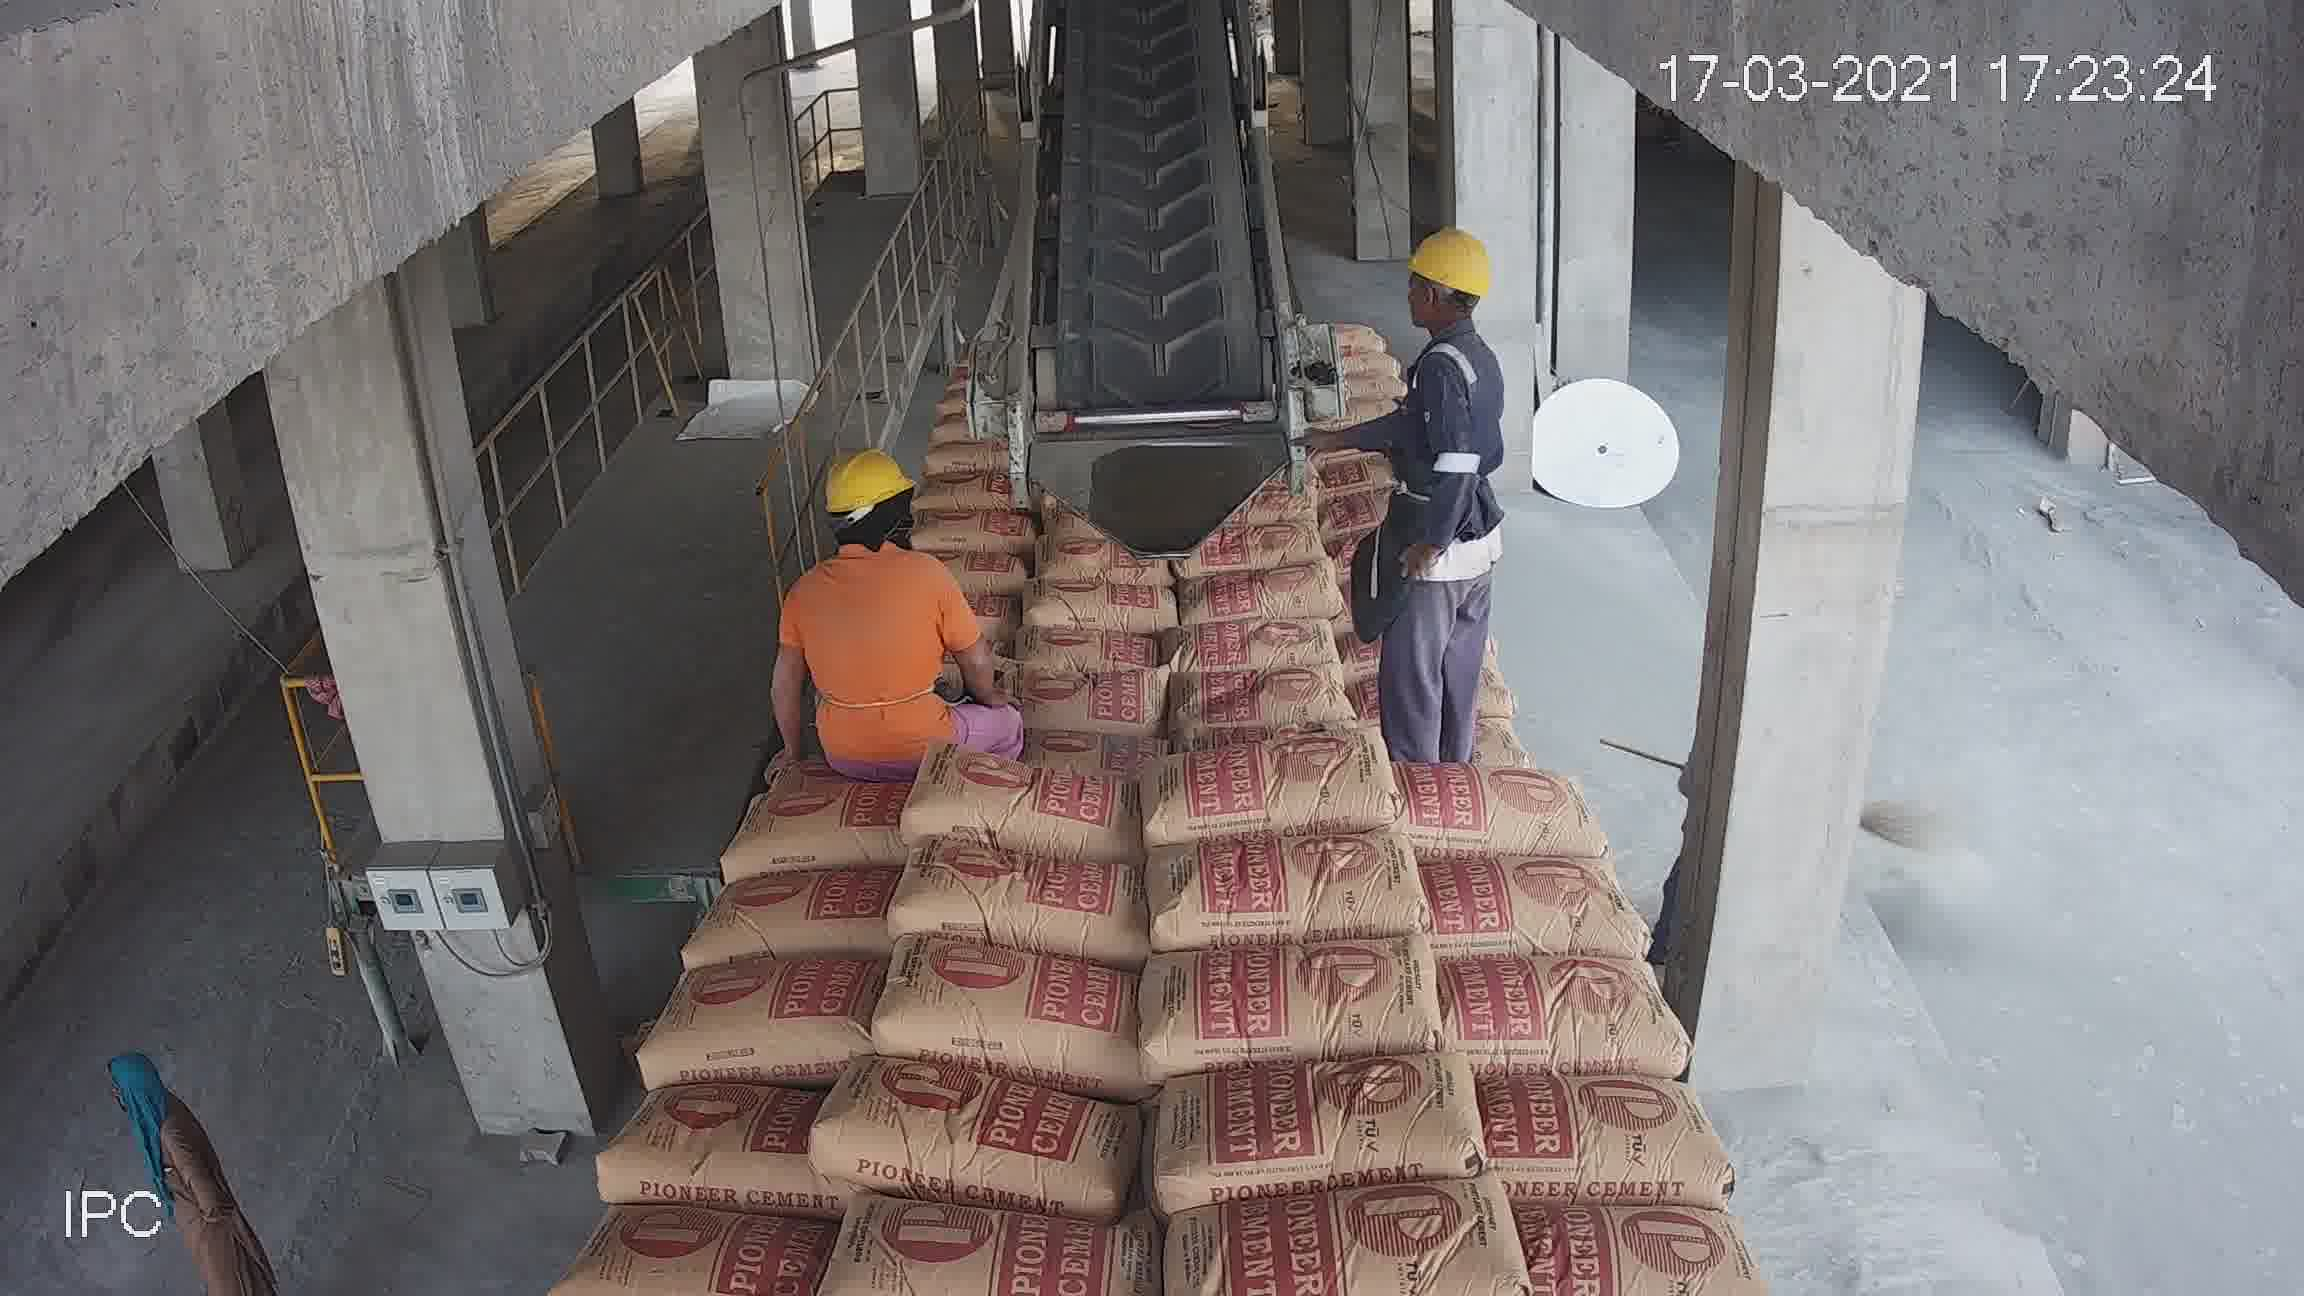bag: (1089, 22, 1195, 71)
bag_h: (1139, 1044, 1475, 1196), (804, 1036, 1122, 1195), (1150, 1158, 1500, 1296), (1124, 929, 1465, 1067), (1135, 824, 1438, 957), (1465, 1060, 1715, 1214), (650, 934, 896, 1078), (597, 1063, 828, 1201), (1152, 729, 1412, 845), (892, 949, 1143, 1067), (883, 839, 1157, 943), (1511, 1199, 1777, 1296), (1461, 954, 1681, 1068), (1419, 851, 1622, 972), (813, 1231, 1144, 1294), (1152, 663, 1366, 760), (570, 1196, 824, 1275), (673, 869, 873, 967), (711, 790, 902, 892), (1155, 508, 1358, 604), (1182, 589, 1375, 687), (1400, 764, 1598, 859), (771, 623, 961, 715), (745, 698, 924, 794), (953, 548, 1179, 620), (1400, 677, 1582, 763), (896, 767, 1117, 836), (942, 612, 1149, 677), (1008, 475, 1184, 543), (1386, 627, 1548, 695), (934, 703, 1150, 748), (794, 581, 951, 642), (1351, 563, 1502, 622), (1032, 457, 1184, 513), (1342, 514, 1457, 571), (1067, 519, 1184, 574), (1343, 438, 1449, 489), (1359, 475, 1468, 519), (1051, 437, 1166, 472)
belt: (1055, 5, 1256, 362)
